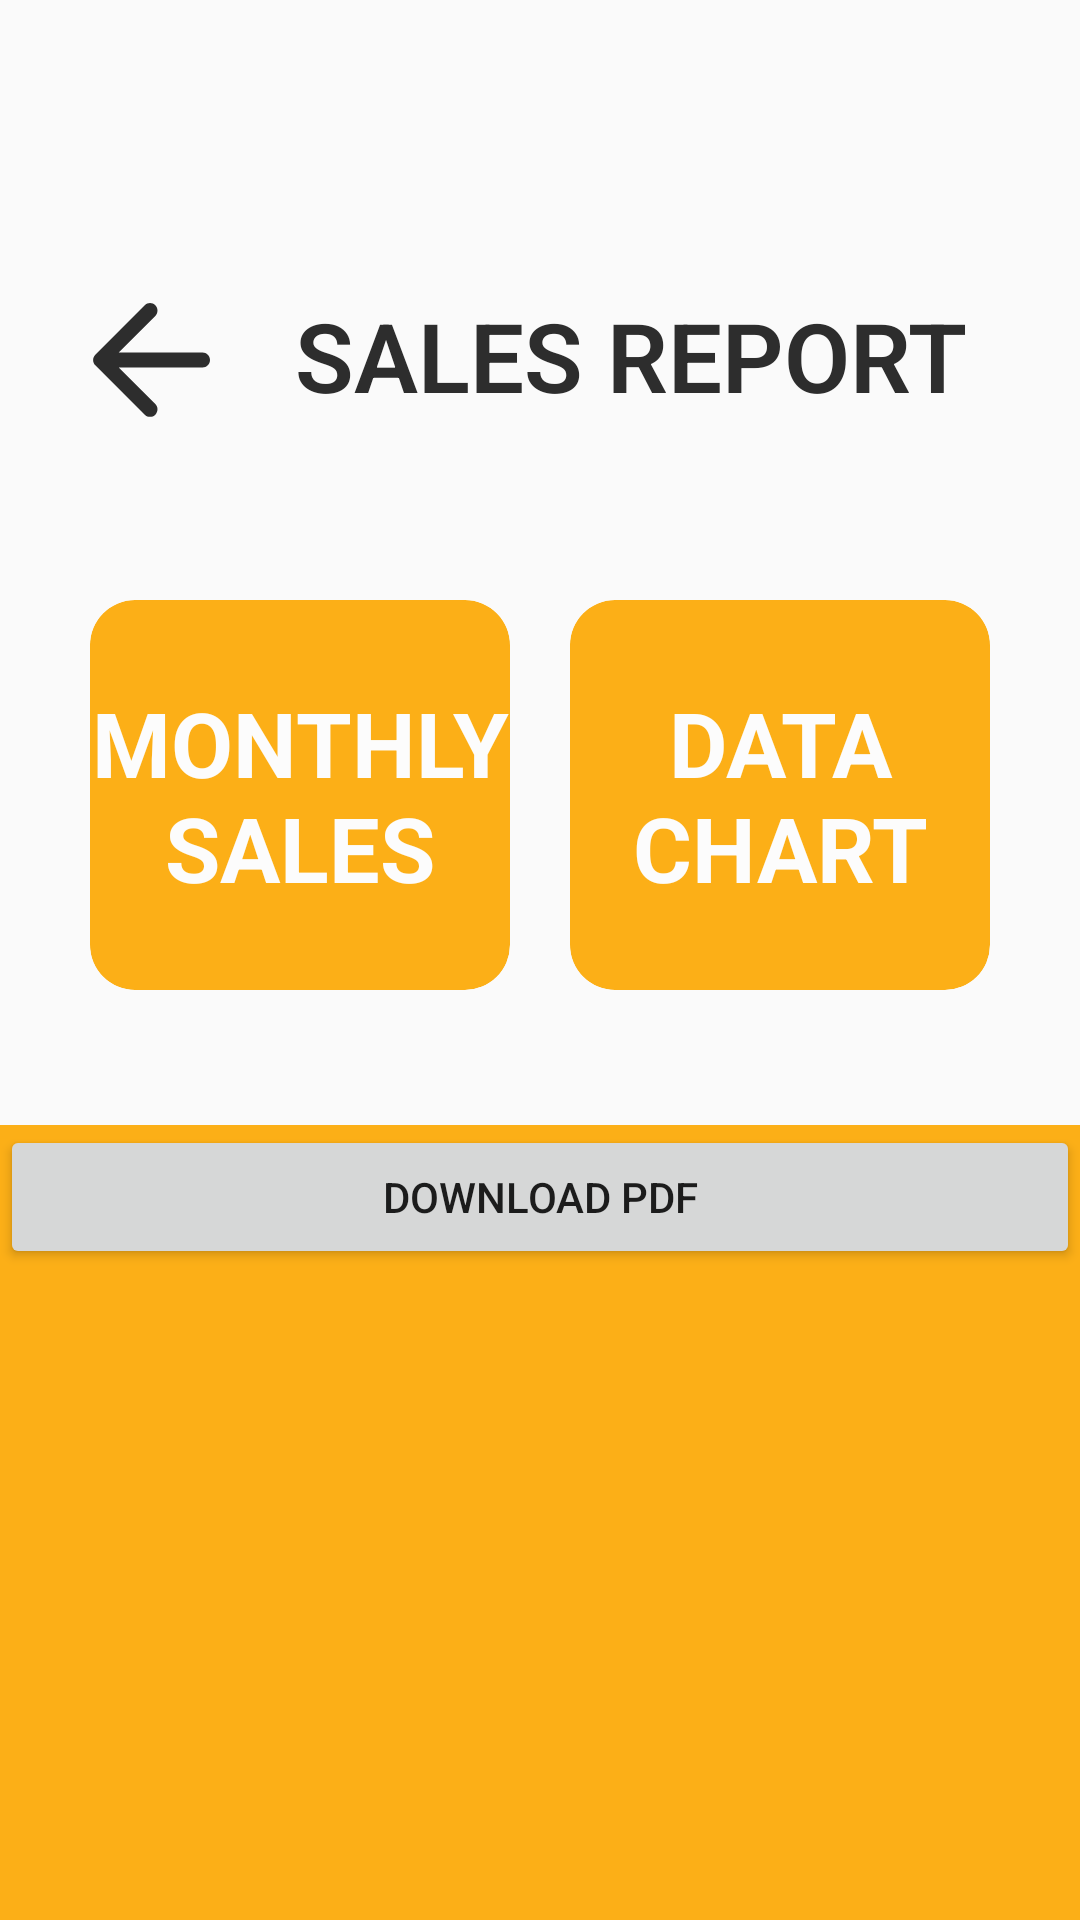

Icons on this 1080*1920 Android screen, each with its box as (x1, y1, x2, y2):
arrow back: (93, 303, 210, 417)
